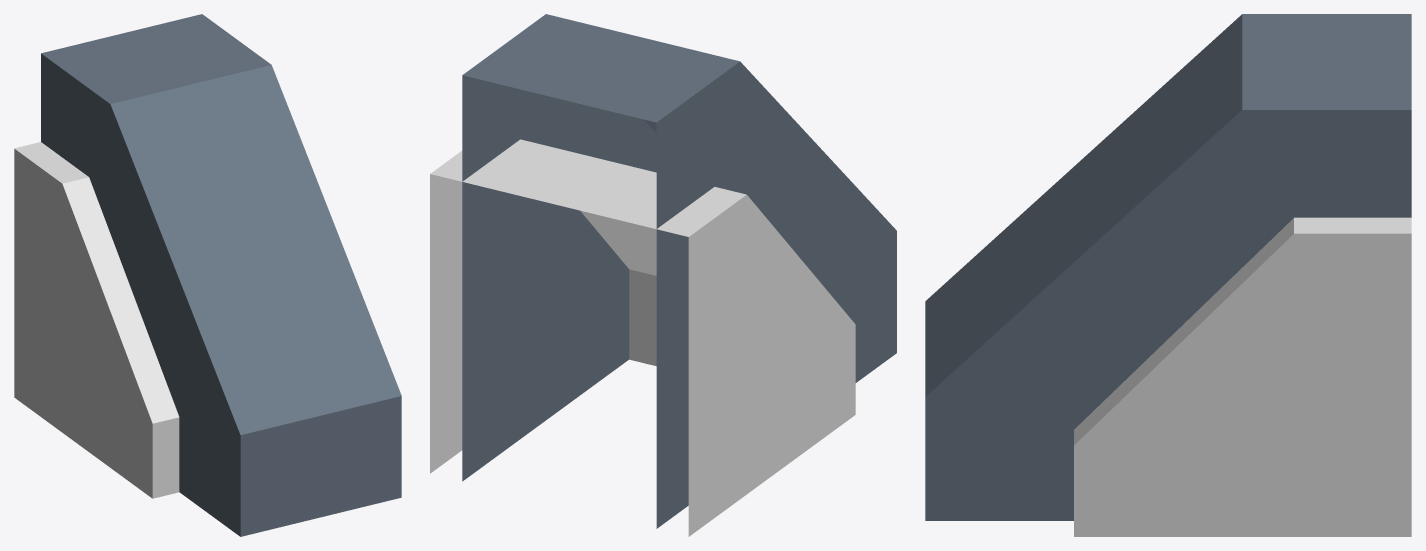
Rendered from Environment_Wall_Prop_1.fbx.
The picture shows the model from 3 angles, left to right: view 1: azimuth 30°, elevation 25°; view 2: azimuth 150°, elevation 25°; view 3: azimuth 270°, elevation 25°; orthographic projection. The views are drawn at different scales.
Visible parts, largest first — view 1: Wall_Prop_1; view 2: Wall_Prop_1; view 3: Wall_Prop_1.
Part boxes in pixels (box(x1,y1,x2,y2)): Wall_Prop_1: box(14, 14, 401, 536); Wall_Prop_1: box(430, 14, 896, 536); Wall_Prop_1: box(925, 14, 1411, 536).
Bounding box in the file's own units: 133 × 200 × 214.
